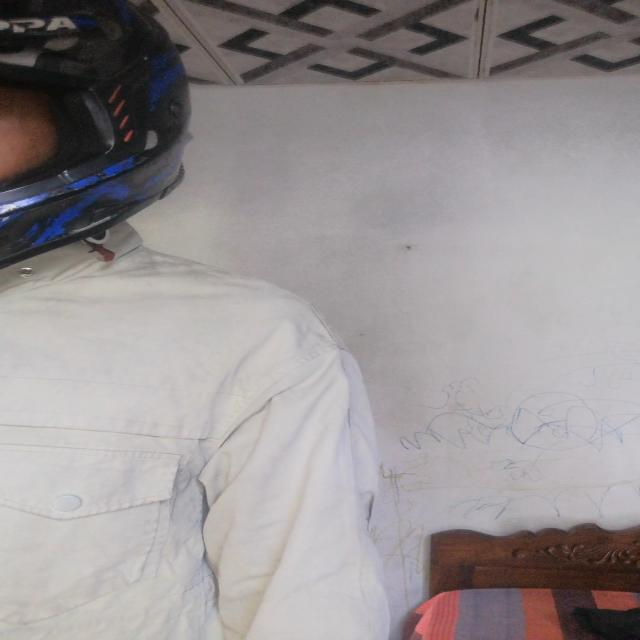Helmet_Wearer: (0, 0, 207, 283)
Jacket_Wearer: (0, 242, 413, 635)
Person: (0, 0, 388, 640)
